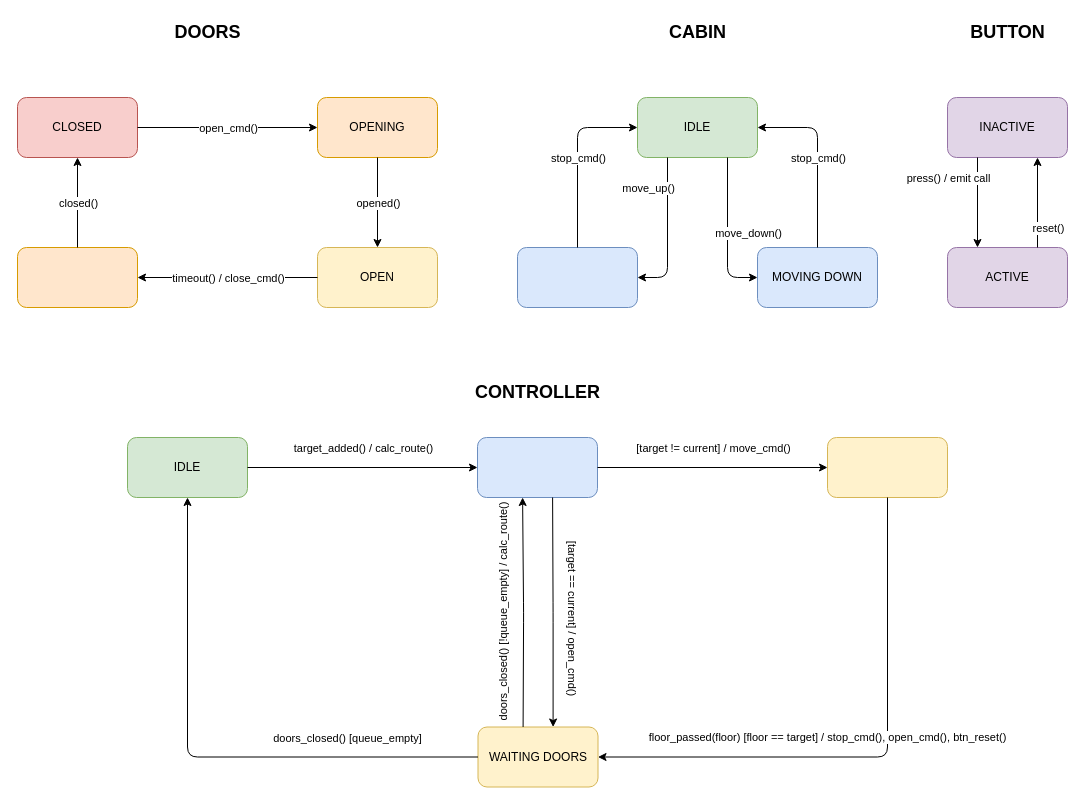
This 1085x804 diagram has some shape labels left out. The centre of each missing label's shape, as x and y in pixels:
"CLOSING" goes at point 77,277.
"MOVING UP" goes at point 577,277.
"ROUTING" goes at point 537,467.
"WAITING CABIN" goes at point 887,467.
